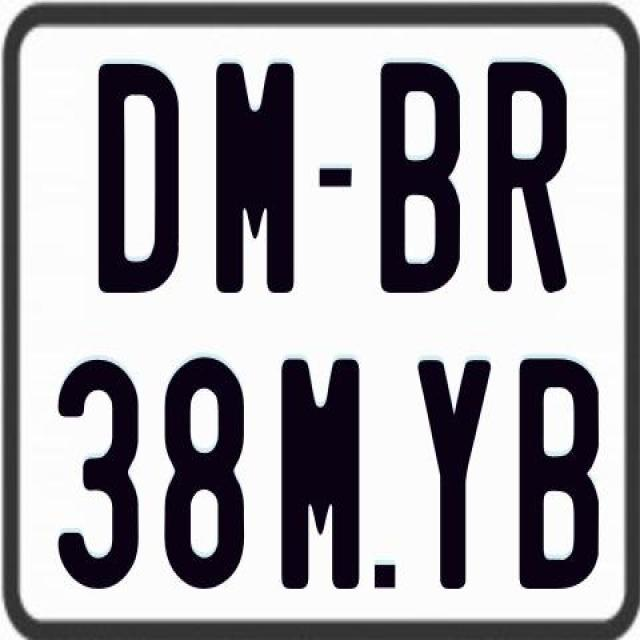3: (55, 360, 137, 589)
8: (164, 357, 250, 589)
B: (382, 61, 466, 301), (520, 357, 598, 597)
D: (96, 64, 182, 293)
M: (280, 354, 364, 586), (213, 59, 291, 299)
R: (484, 58, 568, 290)
Y: (416, 355, 488, 592)
